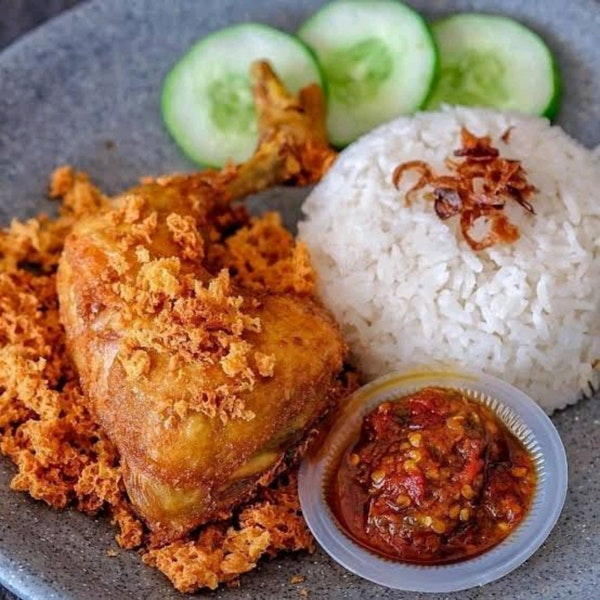Ayam: (34, 87, 361, 534)
